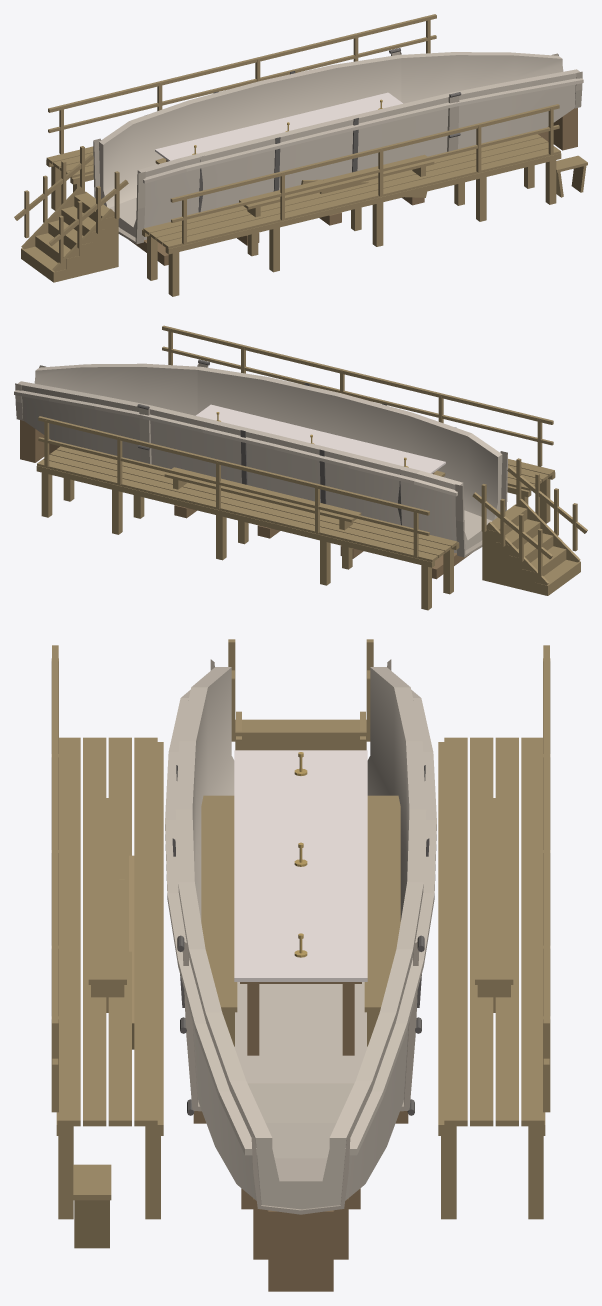
3 renders of one model, top to bottom at view 1: azimuth 30°, elevation 25°; view 2: azimuth 150°, elevation 25°; view 3: azimuth 270°, elevation 25°, orthographic. The views are drawn at different scales.
Visible parts, largest first — view 1: Mould_BodySection; view 2: Mould_BodySection; view 3: Mould_BodySection.
Part boxes in pixels (x1,y1,x2,y2): Mould_BodySection: (14,14,587,296); Mould_BodySection: (14,325,587,610); Mould_BodySection: (51,639,550,1291).
Size of what is drawn, in the model's own units: 10.42 by 1.96 by 4.18.
Materials: 1 (1 with a texture image).
